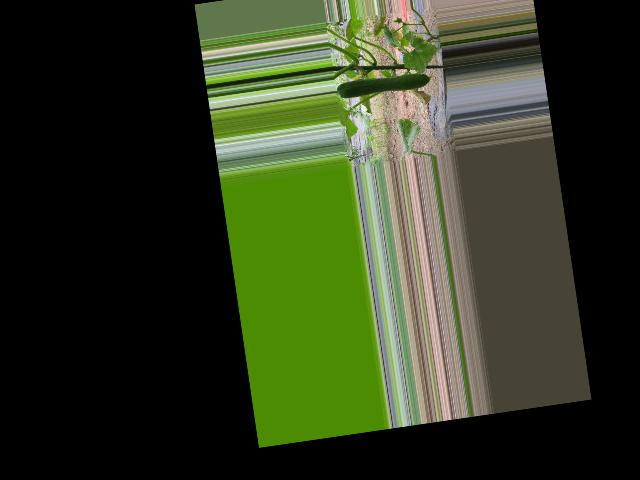cucumber: (336, 69, 433, 100)
